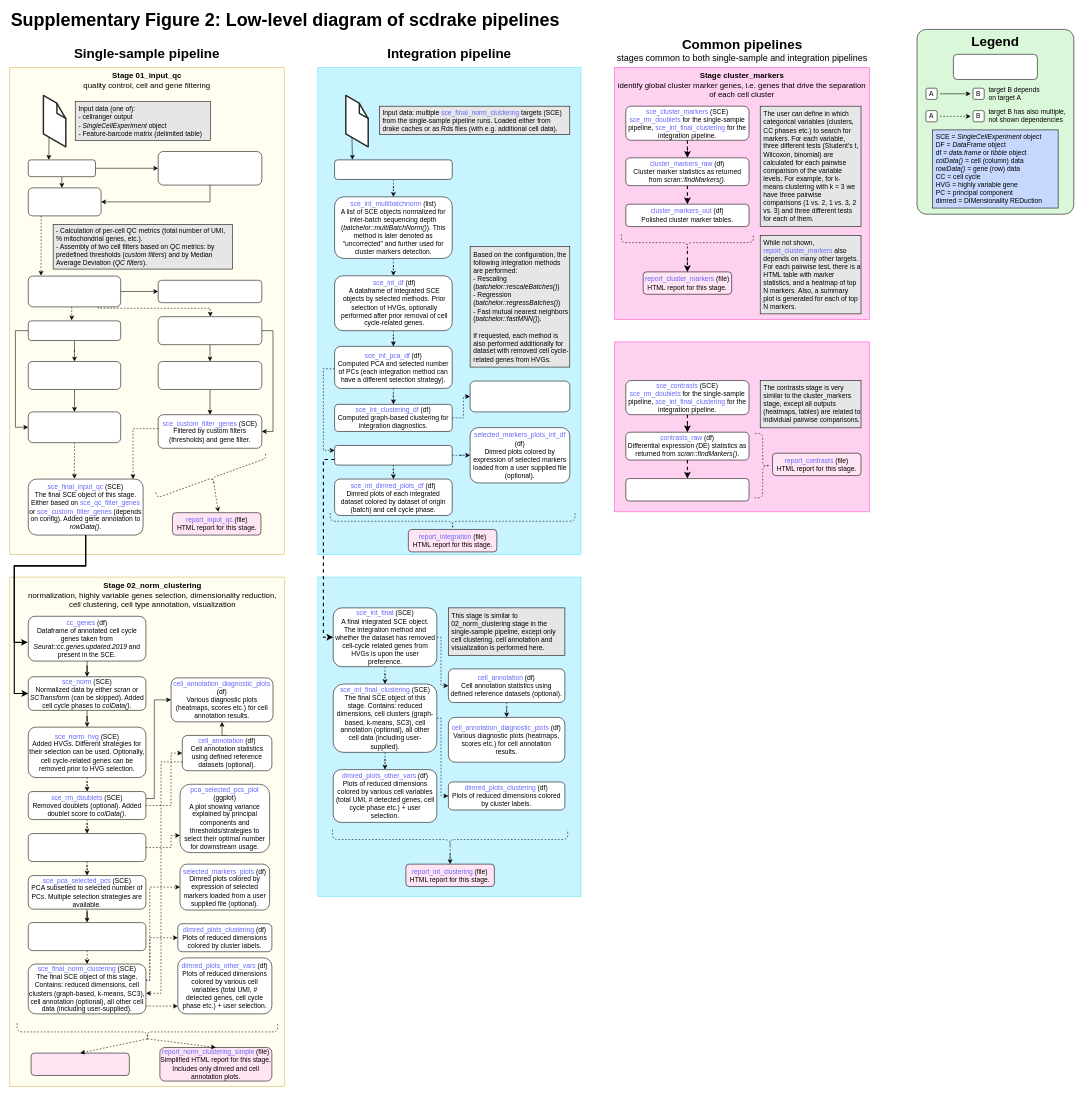
Some shapes in this 1084 by 1096 pixel diagram are drawn without their labels. The box of each missing label's shape, as (x1, y1, x2, y2) in pixels:
contrasts_out (df) Polished DE tables.: (625, 478, 749, 501)
empty_droplets (DF) Statistics from DropletUtils::emptyDrops() (optional): (158, 151, 262, 185)
int_diagnostics_df (df) Various integration diagnostics (tables, plots).: (470, 381, 570, 412)
report_norm_clustering (file) Full HTML report for this stage.: (31, 1053, 129, 1075)
sce_custom_filter (SCE) Filtered by custom filters (thresholds).: (158, 316, 262, 345)
sce_custom_gene_filter (logical) Boolean filter for genes (TRUE = discard).: (158, 361, 262, 389)
sce_dimred (SCE) Computed UMAP and tSNE, added to reducedDims() .: (28, 922, 146, 951)
sce_int_dimred_df (df) Computed dimreds (UMAP, tSNE).: (334, 445, 452, 465)
sce_int_import (list) A list of SCE objects to be integrated.: (334, 159, 452, 179)
sce_pca (SCE) PCA computed and added to reducedDims() .: (28, 833, 146, 862)
sce_qc_filter (SCE) Filtered by QC filters (MAD).: (28, 320, 121, 340)
sce_qc_filter_genes (SCE) Filtered by QC filters (MAD) and gene filter.: (28, 411, 121, 443)
sce_qc_gene_filter (logical) Boolean filter for genes (TRUE = discard).: (28, 361, 121, 389)
sce_raw (SCE): (28, 159, 95, 177)
sce_unfiltered (SCE) colData() extended by QC metrics and boolean filters.: (28, 276, 121, 307)
sce_unfiltered_plotlist (list) Plots of QC metrics.: (158, 280, 262, 303)
sce_valid_cells (SCE) Removed empty droplets if enabled.: (28, 187, 101, 216)
Stage 01_integration integration, dimensionality reduction: (317, 67, 581, 555)
Stage 02_int_clustering cell clustering, cell type annotation, visualization: (317, 577, 581, 896)
Stage contrasts differential gene expression between cell clusters: (614, 341, 869, 512)
target name (object type) optional description: (953, 54, 1037, 80)
